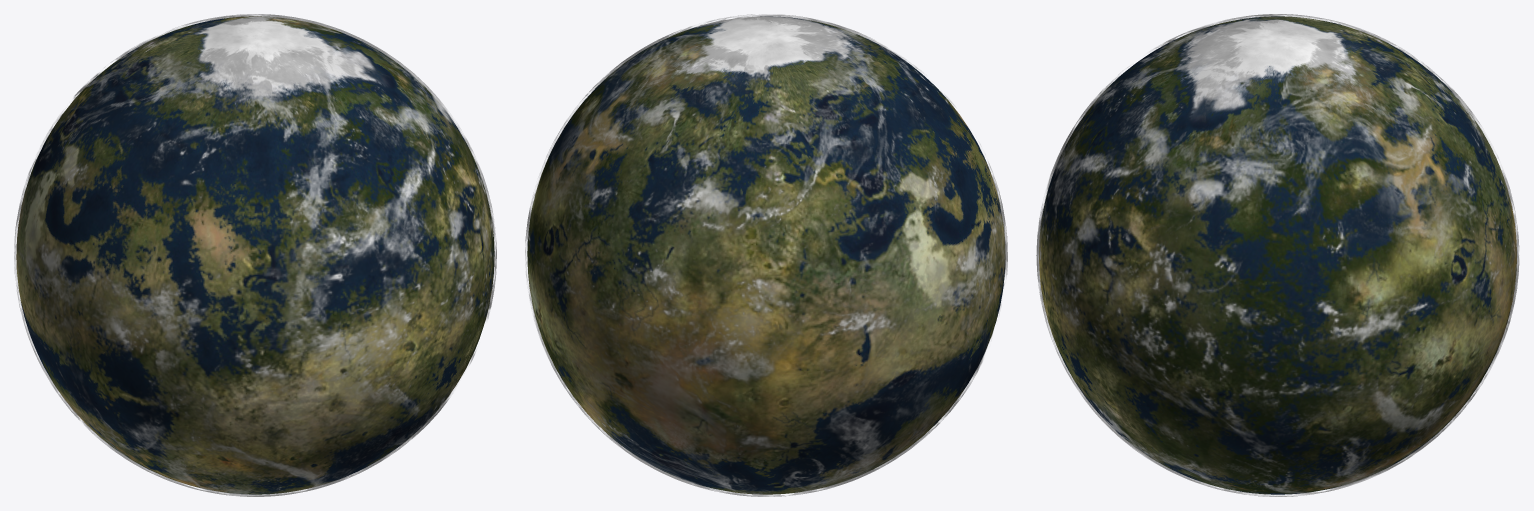
File: alderaan.glb
The picture shows the model from 3 angles, left to right: view 1: azimuth 30°, elevation 25°; view 2: azimuth 150°, elevation 25°; view 3: azimuth 270°, elevation 25°; orthographic projection.
Parts seen in each view (by area): view 1: Alderaan_Surface, Alderaan_Atmosphere; view 2: Alderaan_Surface, Alderaan_Atmosphere; view 3: Alderaan_Surface, Alderaan_Atmosphere.
Part boxes in pixels (x1,y1,x2,y2): Alderaan_Surface: [16, 16, 494, 494]; Alderaan_Atmosphere: [14, 14, 496, 496]; Alderaan_Surface: [527, 16, 1005, 494]; Alderaan_Atmosphere: [525, 14, 1007, 496]; Alderaan_Surface: [1039, 16, 1516, 494]; Alderaan_Atmosphere: [1036, 14, 1519, 496].
Size of the model in its own units: 2 by 2 by 2.
2 materials, 2 textured.
